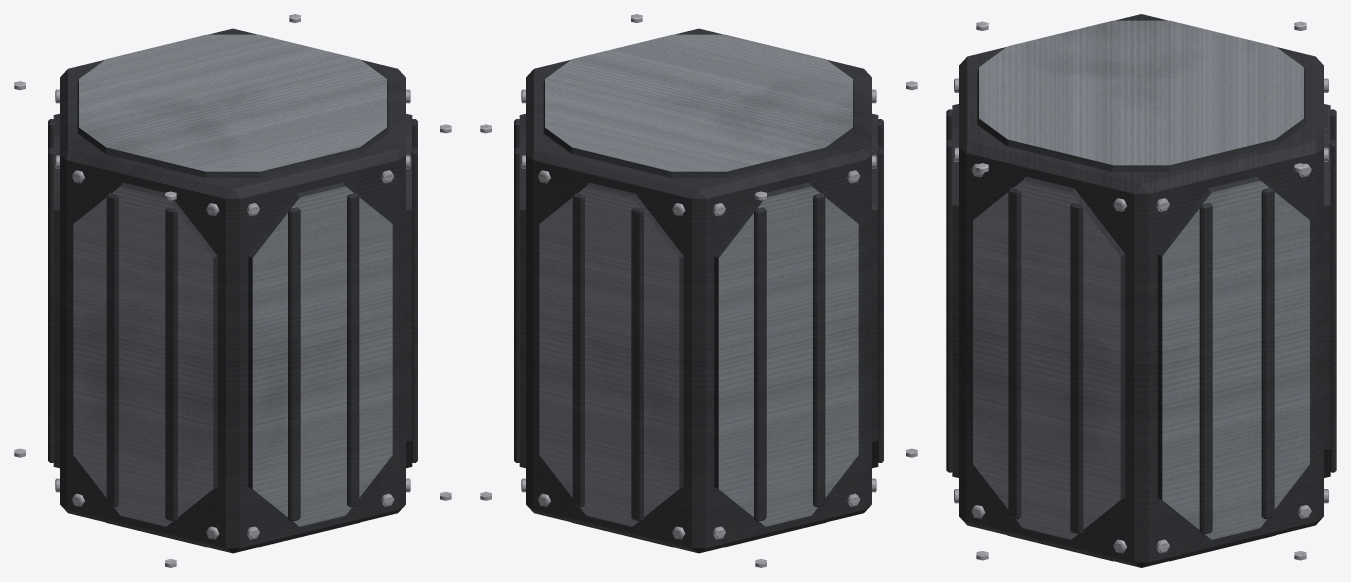
Rendered from R4B_HexColumn.glb.
3 views of the same model, side by side, from view 1: azimuth 30°, elevation 25°; view 2: azimuth 150°, elevation 25°; view 3: azimuth 270°, elevation 25° (orthographic). The views are drawn at different scales.
Parts seen in each view (by area): view 1: R4B_HexColumn; view 2: R4B_HexColumn; view 3: R4B_HexColumn.
Part boxes in pixels (x1=…): R4B_HexColumn: x1=14, y1=14, x2=451, y2=567; R4B_HexColumn: x1=480, y1=14, x2=917, y2=567; R4B_HexColumn: x1=946, y1=14, x2=1336, y2=567.
Bounding box in the file's own units: 0.4915 × 0.52 × 0.4643.
Materials: 3 (3 with a texture image).
